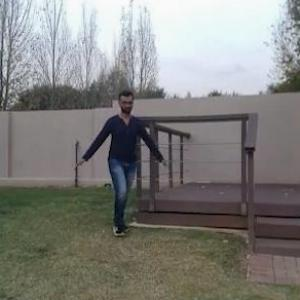land: (73, 78, 176, 255)
